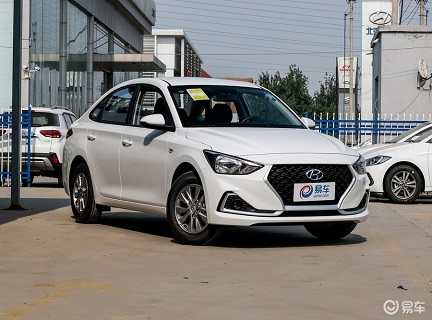现代-悦动: (56, 71, 375, 243)
